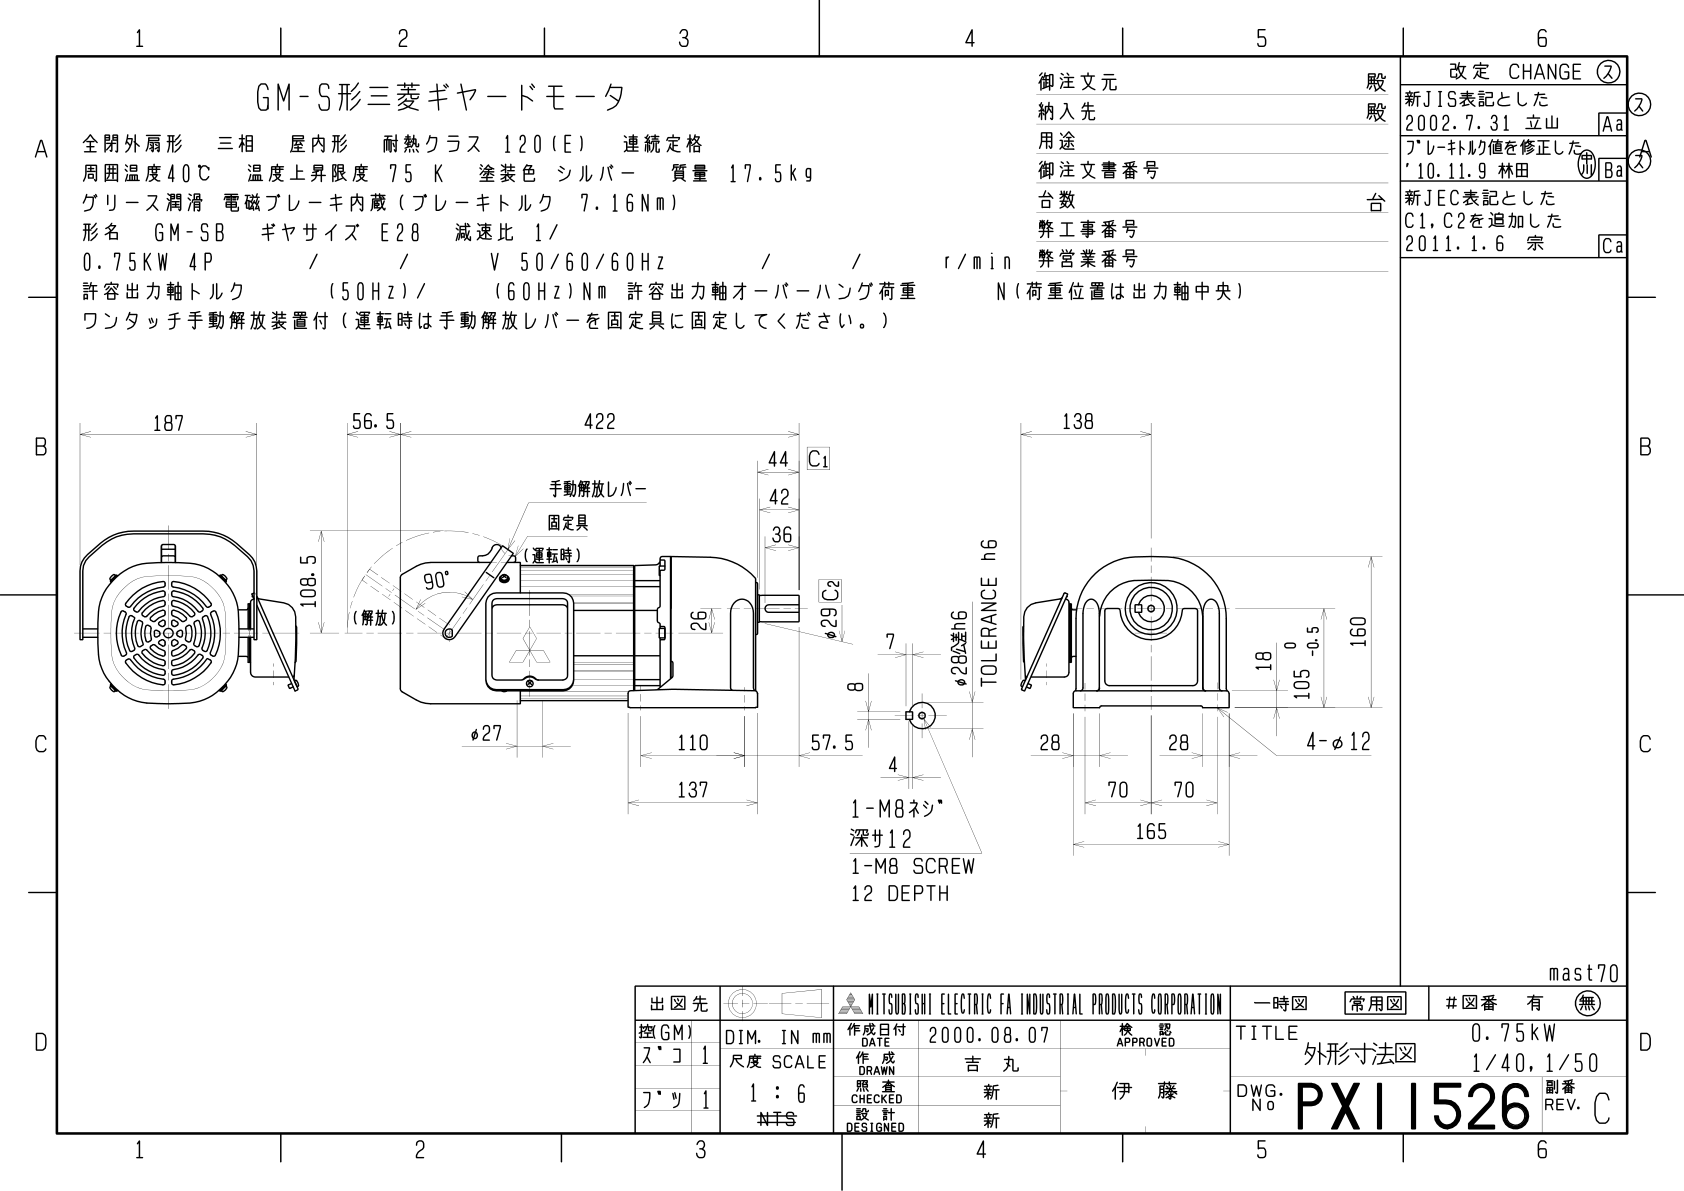GM_S_手動ブレーキ＿三相_脚: (61, 365, 1386, 980)
